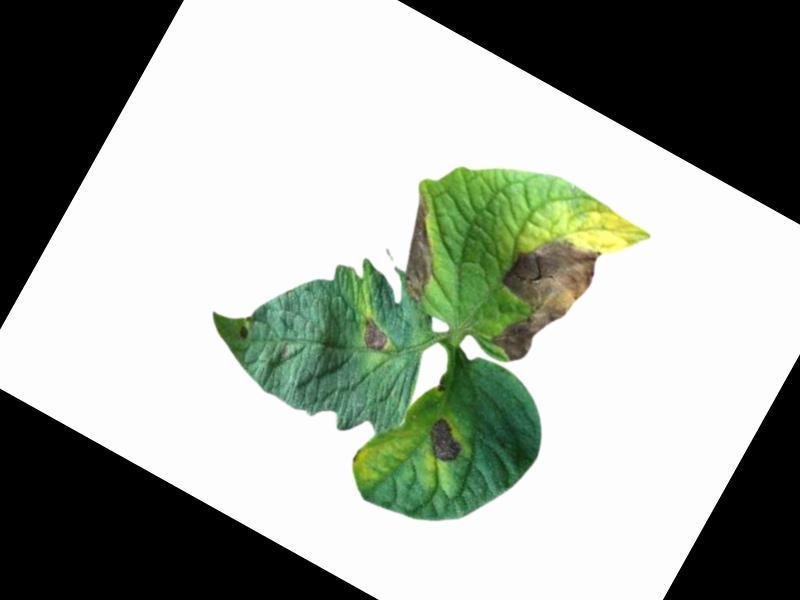Early_blight: (466, 215, 606, 378), (364, 189, 466, 304), (417, 413, 472, 468), (352, 314, 395, 356), (233, 322, 251, 341)
